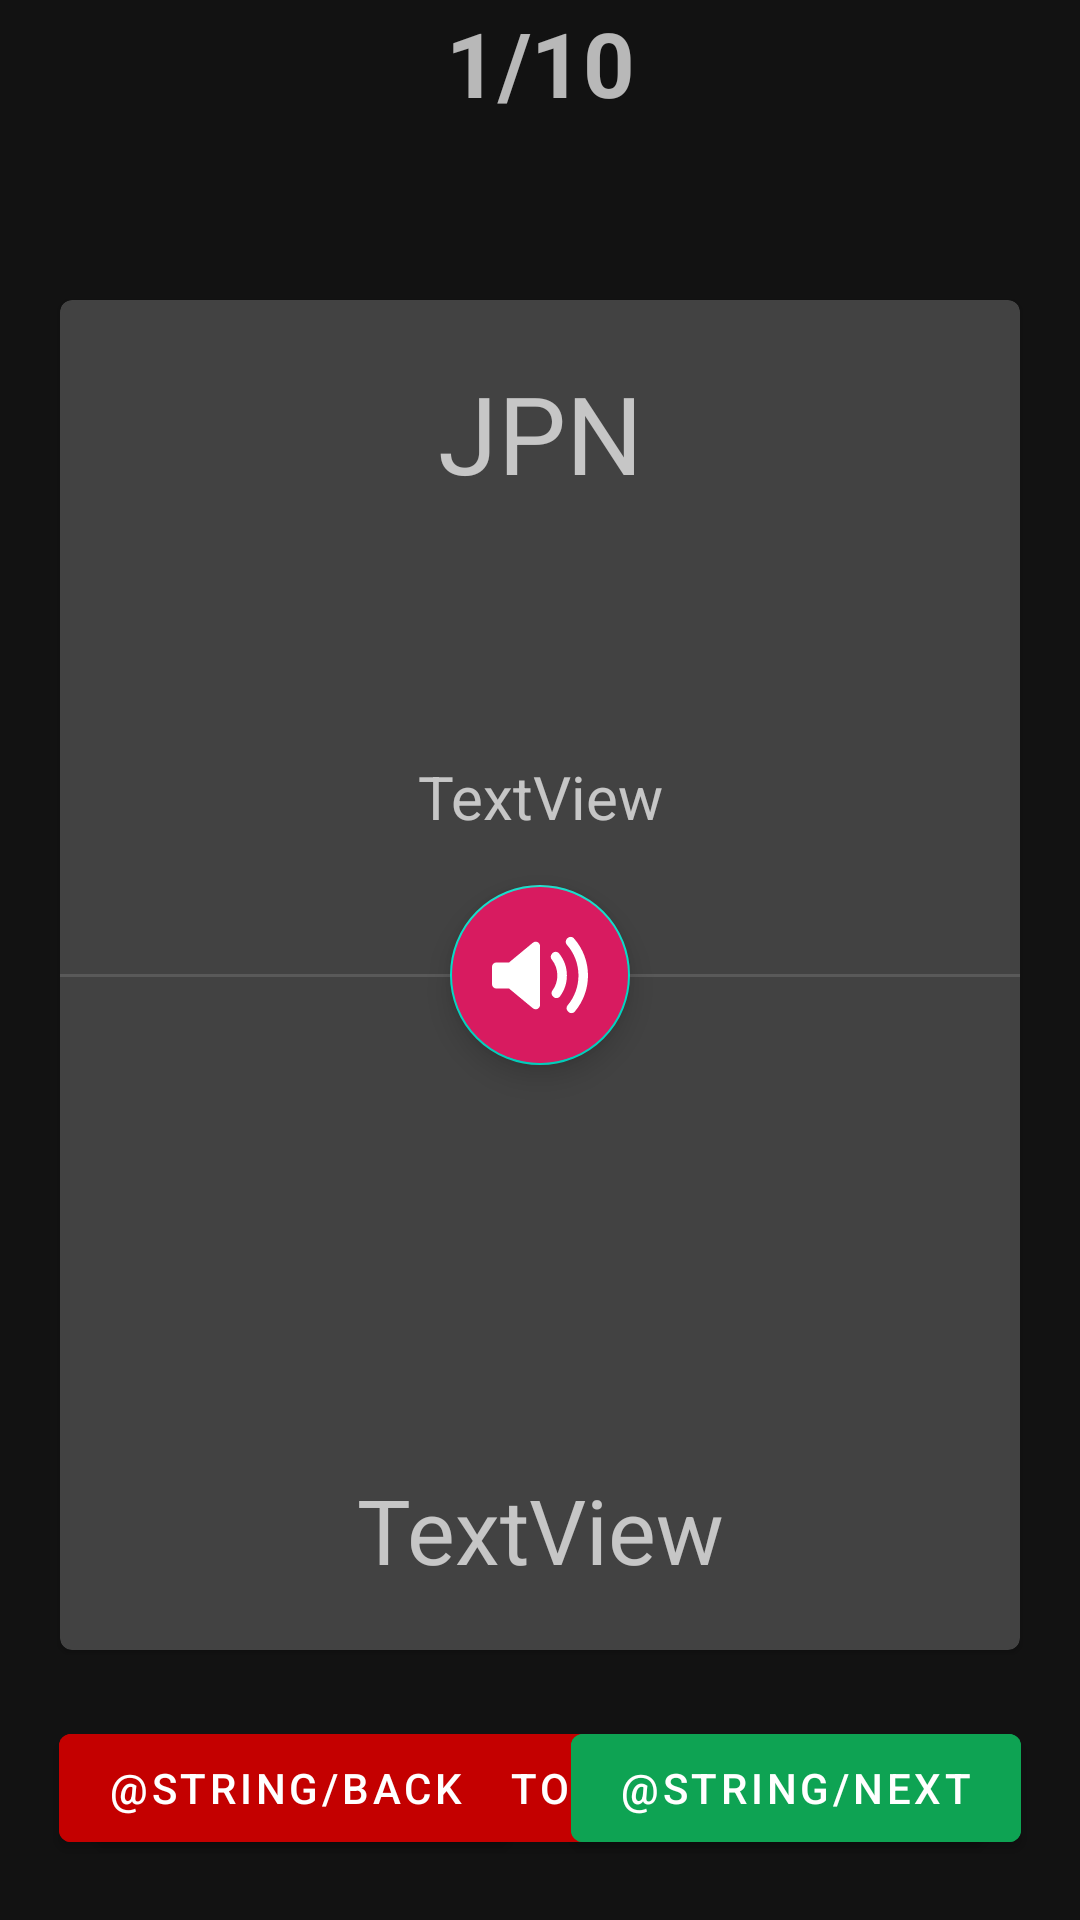

Icons on this 1080*1920 Android screen, each with the point to tap as (x,y):
speaker audio tool: (540,975)
